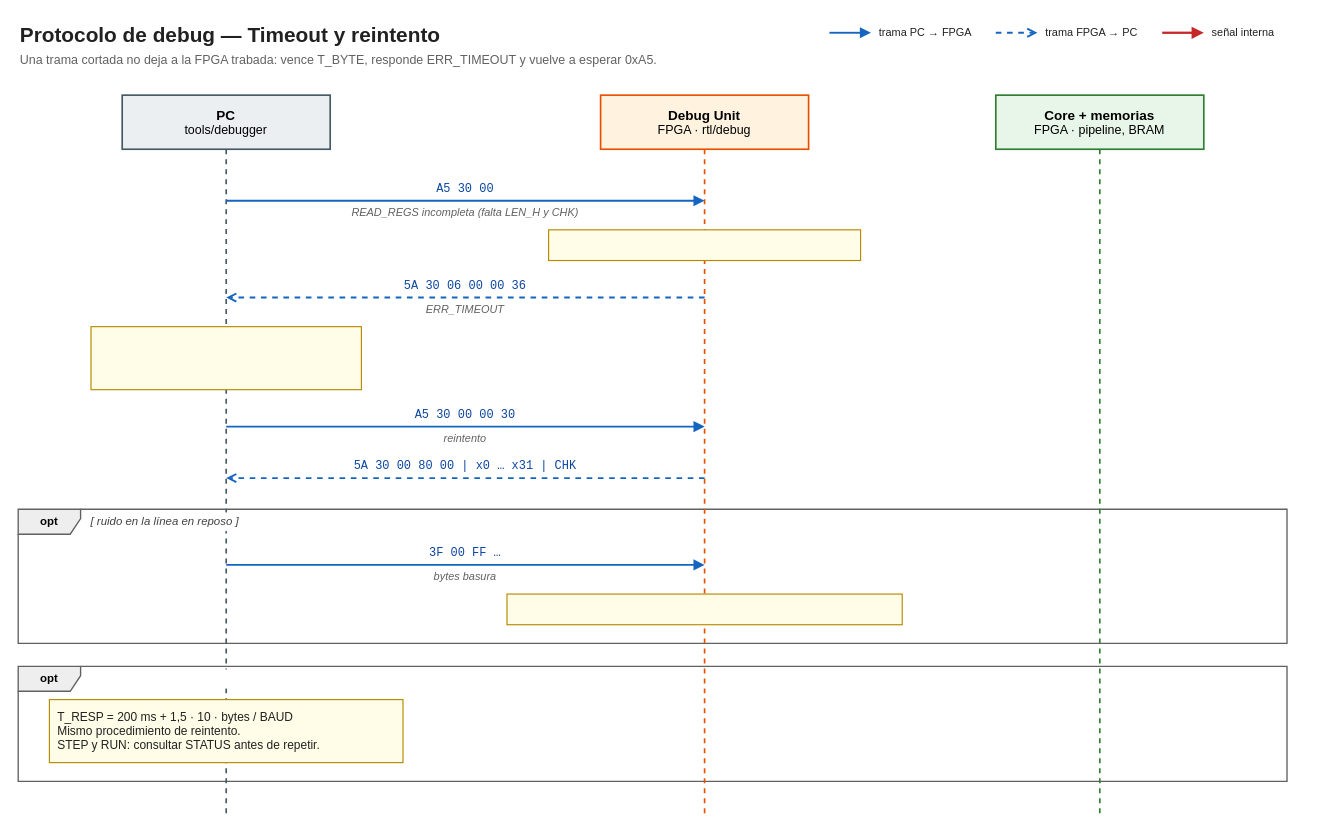
Some shapes in this 1343 by 836 pixel diagram are drawn without their labels. The box of each missing label's shape, as (x1, y1, x2, y2) in pixels:
1. esperar ≥ 150 ms 2. reset_input_buffer() 3. reintentar (máx. 3): (90, 326, 362, 390)
[ la PC no recibe respuesta en T_RESP ]: (88, 669, 346, 688)
En IDLE descarta todo byte ≠ 0xA5, sin responder: (506, 593, 902, 625)
Nada llega durante T_BYTE = 100 ms: (548, 229, 861, 261)
